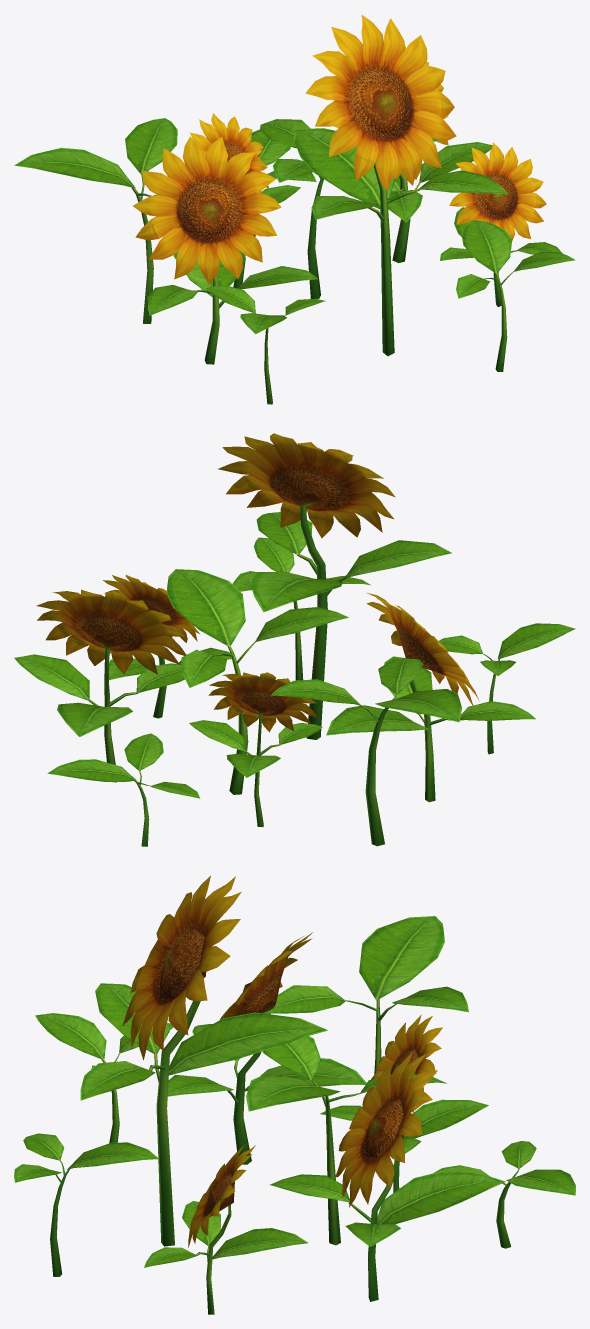
The model's file is flower_09.fbx.
3 renders of one model, top to bottom at view 1: azimuth 30°, elevation 25°; view 2: azimuth 150°, elevation 25°; view 3: azimuth 270°, elevation 25°, orthographic. The views are drawn at different scales.
Visible parts, largest first — view 1: flower_09; view 2: flower_09; view 3: flower_09.
Part boxes in pixels (x1,y1,x2,y2): flower_09: (14,15,575,404); flower_09: (14,433,575,846); flower_09: (14,876,575,1314).
Bounding box in the file's own units: 4.03 × 2.66 × 3.81.
